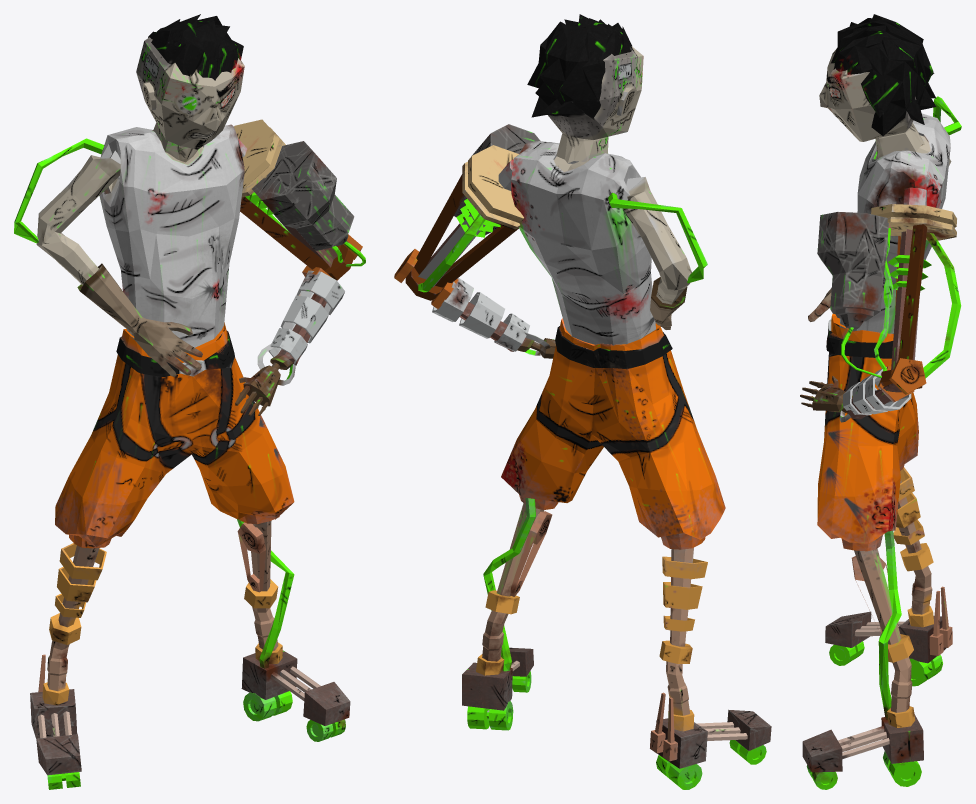
Rendered from CyborgFINALAnimation_000025.obj.
3 views of the same model, side by side, from view 1: azimuth 30°, elevation 25°; view 2: azimuth 150°, elevation 25°; view 3: azimuth 270°, elevation 25° (orthographic).
Visible parts, largest first — view 1: CyborgMesh_Cube.002; view 2: CyborgMesh_Cube.002; view 3: CyborgMesh_Cube.002.
Boxes of the visible parts, box(x1,y1,x2,y2) form: CyborgMesh_Cube.002: box(14, 14, 365, 789); CyborgMesh_Cube.002: box(394, 14, 771, 789); CyborgMesh_Cube.002: box(800, 14, 961, 789).
Size of the model in its own units: 4.79 by 9.6 by 1.96.
